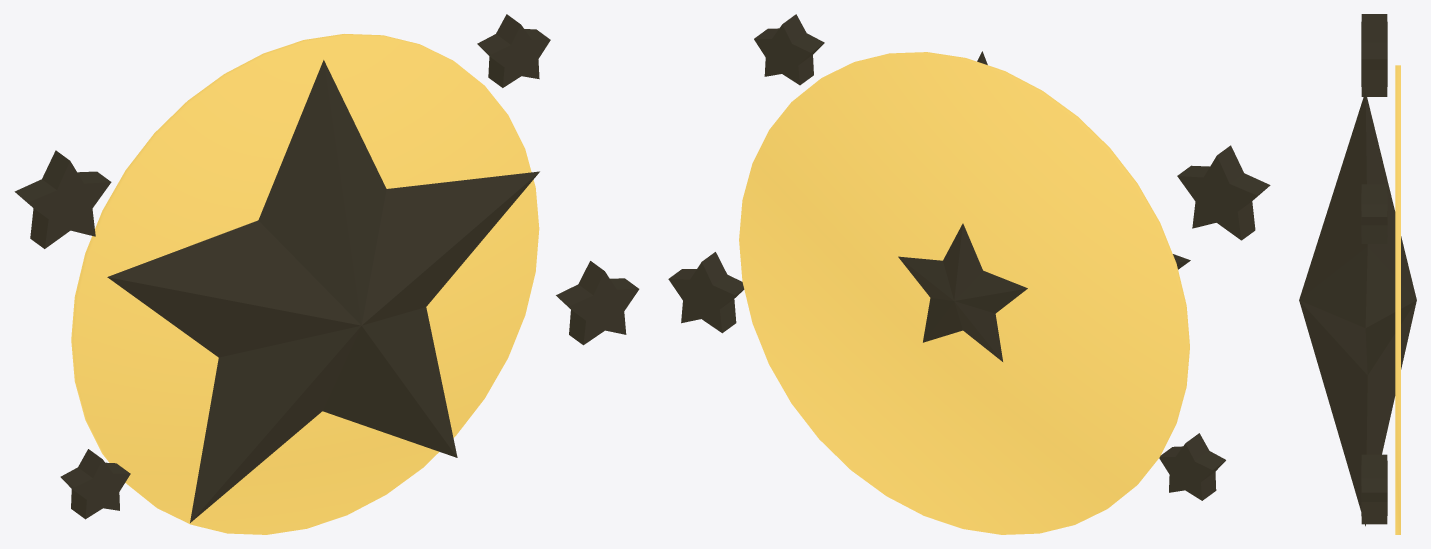
Rendered from emblem_st_star.glb.
The picture shows the model from 3 angles, left to right: view 1: azimuth 30°, elevation 25°; view 2: azimuth 150°, elevation 25°; view 3: azimuth 270°, elevation 25°; orthographic projection. The views are drawn at different scales.
Parts seen in each view (by area): view 1: halo_NoOutline, star_ol, mini-0.550.78_ol, mini0.60.3_ol, mini0.420.86_ol, mini-0.480.18_ol; view 2: halo_NoOutline, star_ol, mini-0.550.78_ol, mini0.60.3_ol, mini0.420.86_ol, mini-0.480.18_ol; view 3: star_ol, halo_NoOutline, mini-0.550.78_ol, mini0.60.3_ol, mini0.420.86_ol.
Part boxes in pixels (x1,y1,x2,y2): halo_NoOutline: (71,34,539,534); star_ol: (107,60,539,522); mini-0.550.78_ol: (14,150,111,248); mini0.60.3_ol: (556,261,639,345); mini0.420.86_ol: (477,14,550,87); mini-0.480.18_ol: (60,449,130,519); halo_NoOutline: (739,52,1189,534); star_ol: (898,51,1190,361); mini-0.550.78_ol: (1177,145,1270,240); mini0.60.3_ol: (668,252,744,333); mini0.420.86_ol: (754,14,824,85); mini-0.480.18_ol: (1159,433,1225,500); star_ol: (1299,91,1416,526); halo_NoOutline: (1395,65,1400,534); mini-0.550.78_ol: (1361,14,1387,96); mini0.60.3_ol: (1361,454,1387,524); mini0.420.86_ol: (1361,184,1387,243).
Bounding box in the file's own units: 1.31 × 1 × 0.25.
